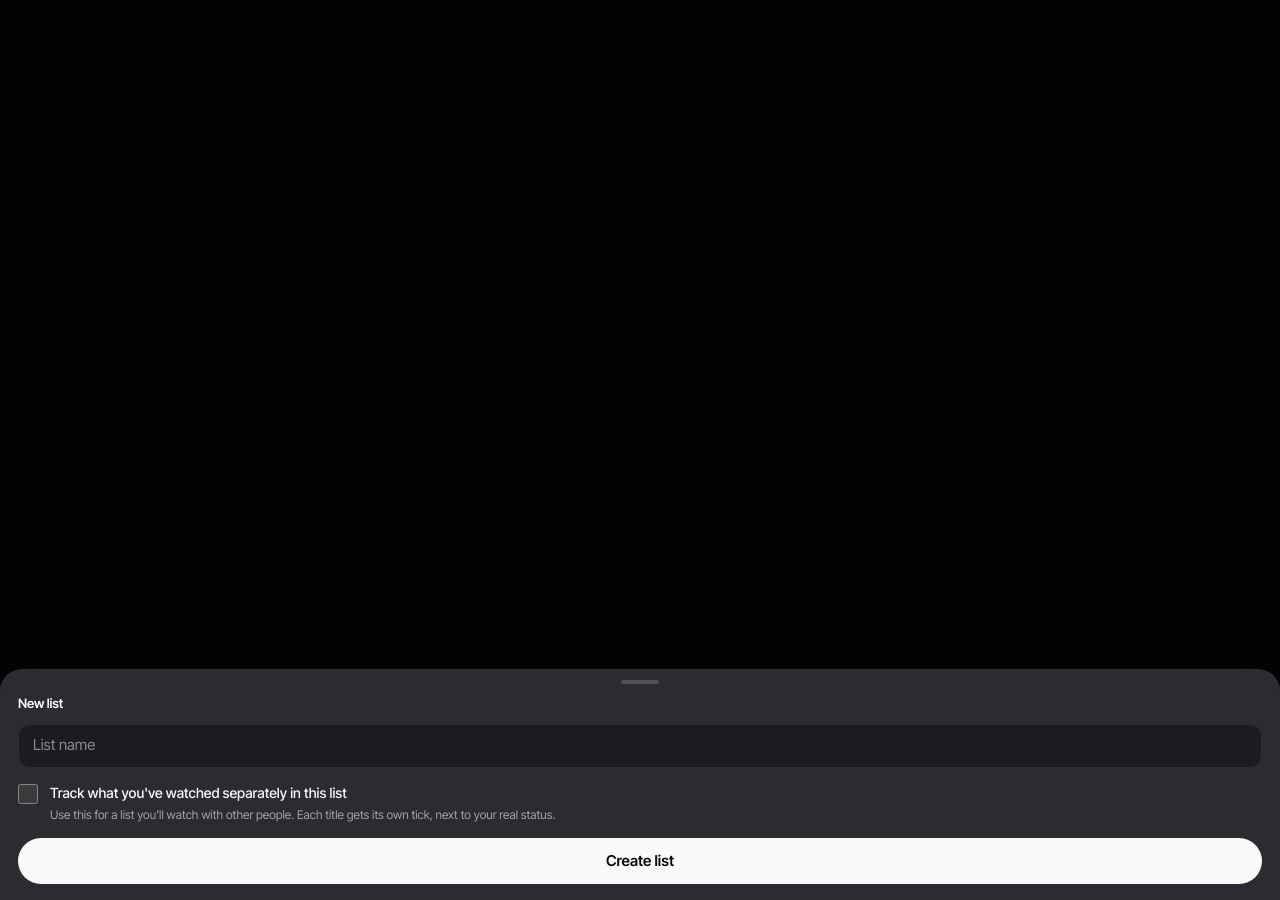
Test case: creating › keeps the server's error on screen after the action settles
The image size is (1280, 900).
In the field labelled "List name": [640, 746] box [18, 724, 1262, 768], type "Dupes"
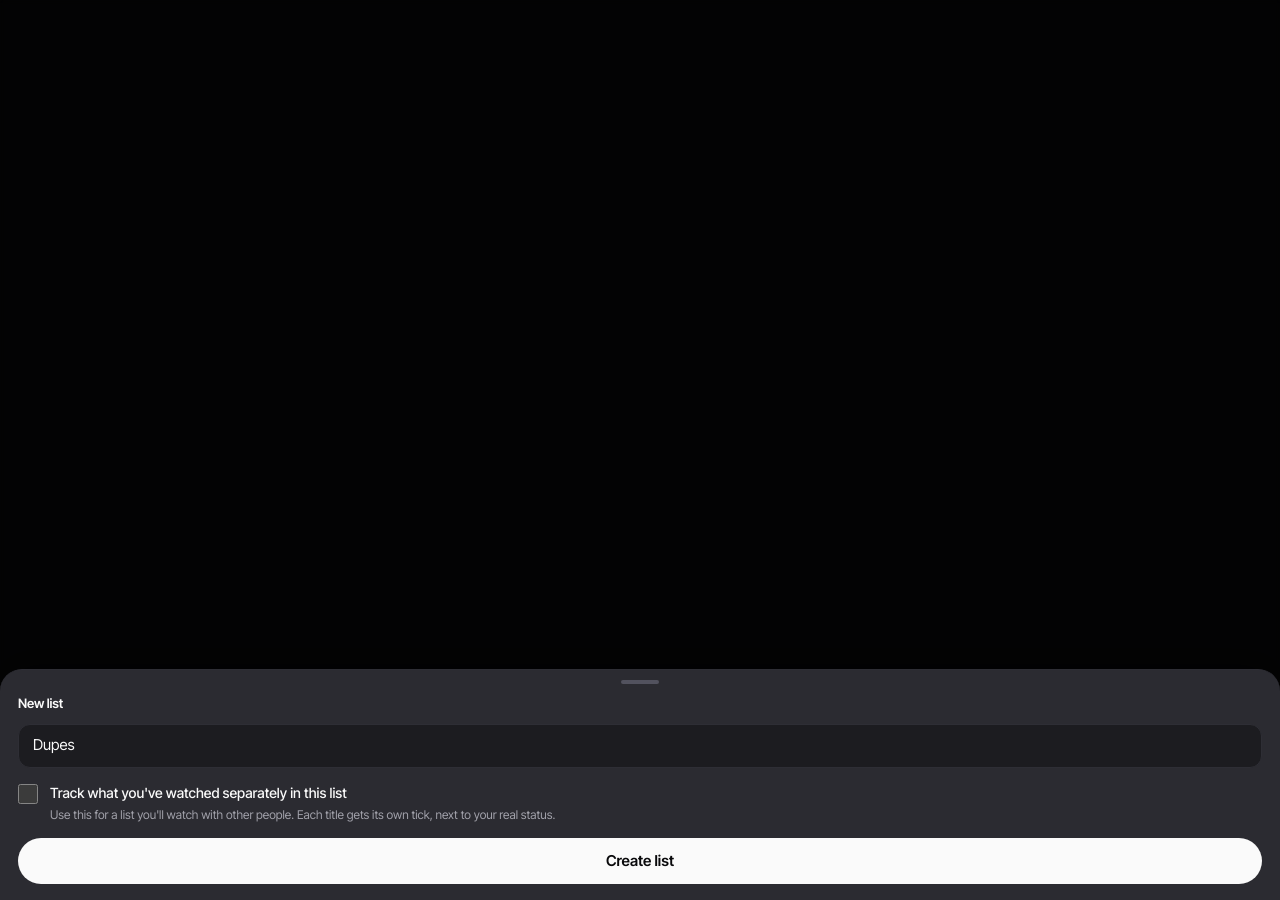
Click the button "Create list": [640, 861] box [18, 838, 1262, 884]
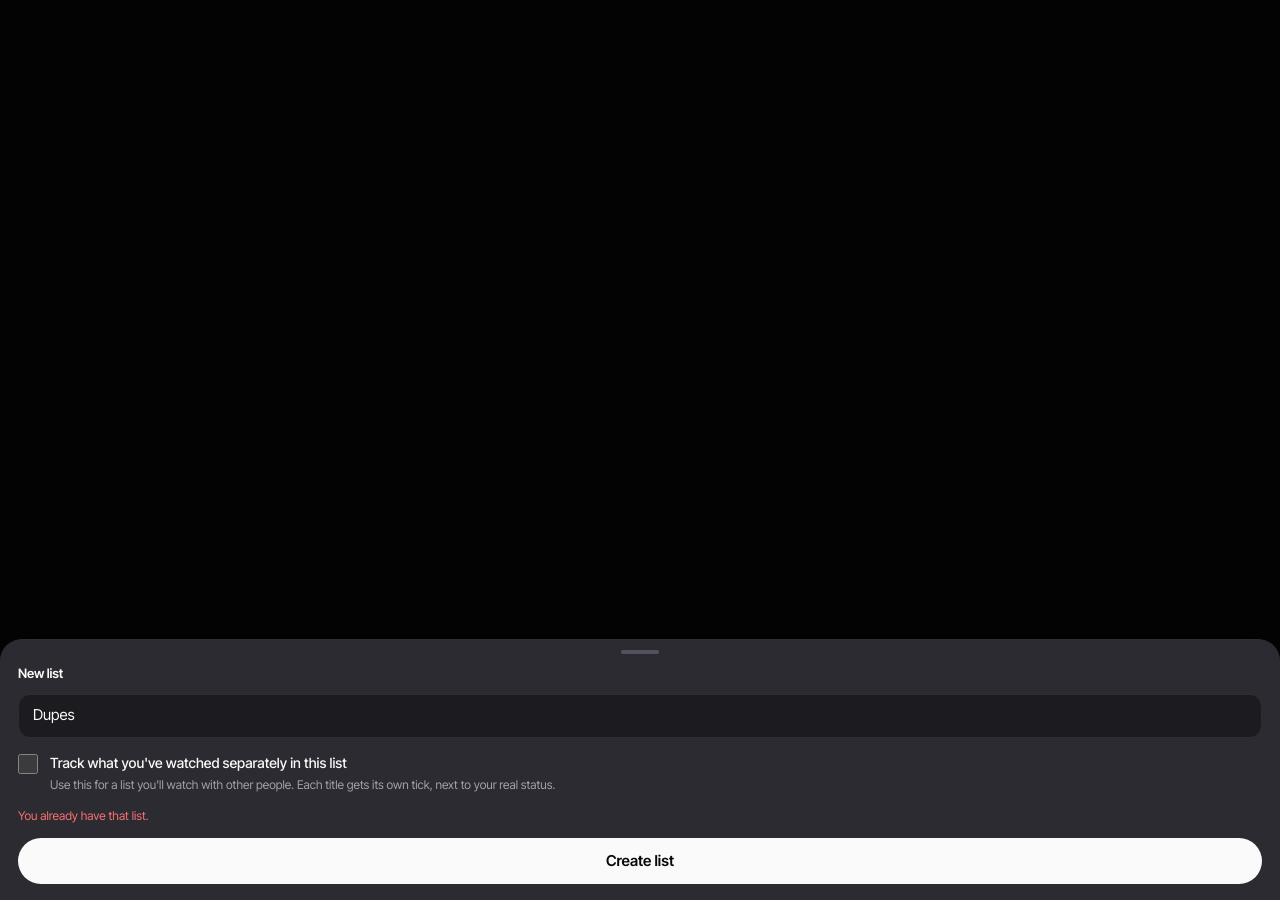
Expected: the message reads "You already have that list.", [18, 808, 149, 823]
